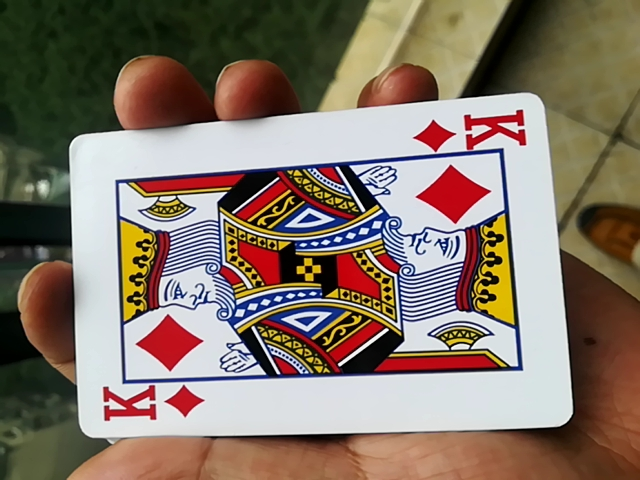fk k: (67, 100, 566, 445)
